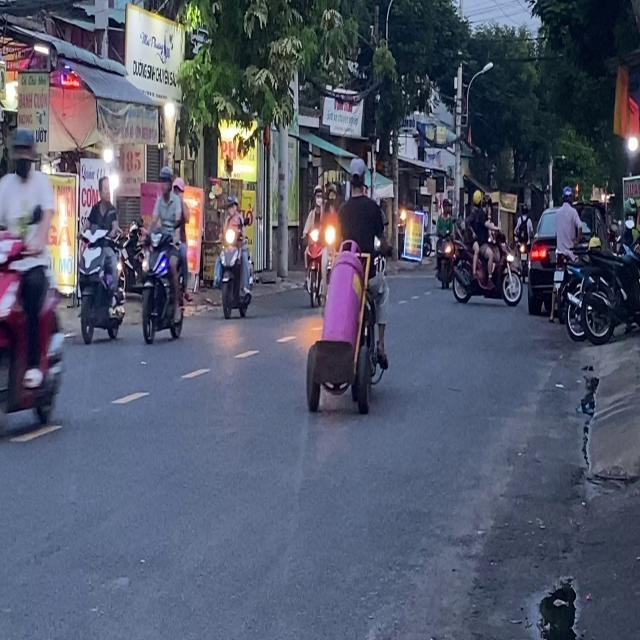helmet: (9, 124, 36, 174), (158, 165, 173, 196), (172, 174, 184, 200), (225, 193, 238, 213)
licenseplate: (0, 122, 69, 447), (314, 153, 397, 412), (138, 164, 189, 345), (75, 173, 127, 345), (215, 191, 253, 322)
motorcyclist: (346, 156, 368, 198), (97, 174, 111, 202)
